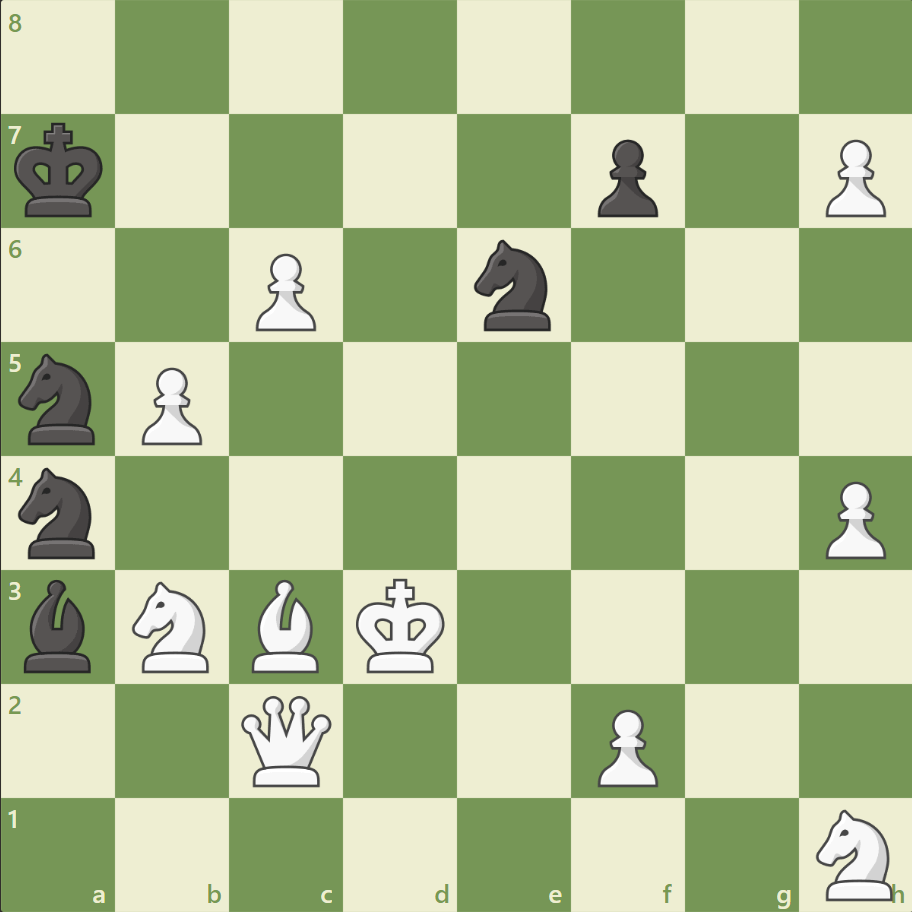B: (244, 574, 328, 676)
K: (351, 571, 451, 679)
N: (124, 575, 222, 677), (806, 802, 903, 904)
P: (247, 246, 322, 337), (133, 359, 208, 450), (815, 132, 889, 223), (815, 473, 889, 564), (588, 700, 662, 791)
Q: (237, 690, 336, 789)
b: (17, 574, 101, 676)
k: (11, 117, 111, 225)
n: (465, 234, 562, 337), (11, 461, 108, 564), (11, 348, 108, 450)
p: (588, 132, 662, 223)
